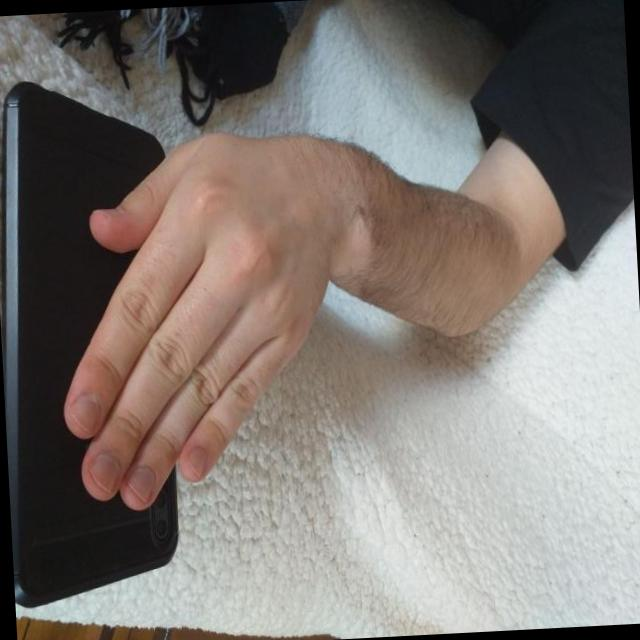Nail: (69, 395, 100, 434), (89, 454, 119, 494), (125, 468, 154, 503), (185, 448, 207, 481), (90, 209, 125, 219)
